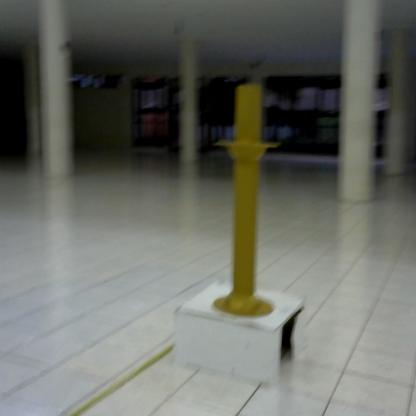pole: (208, 80, 284, 320)
